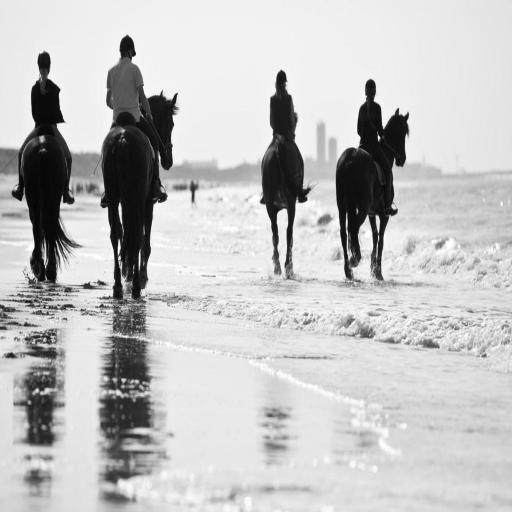horse: (100, 86, 180, 298), (333, 104, 413, 284), (20, 132, 86, 282), (259, 107, 316, 276)
